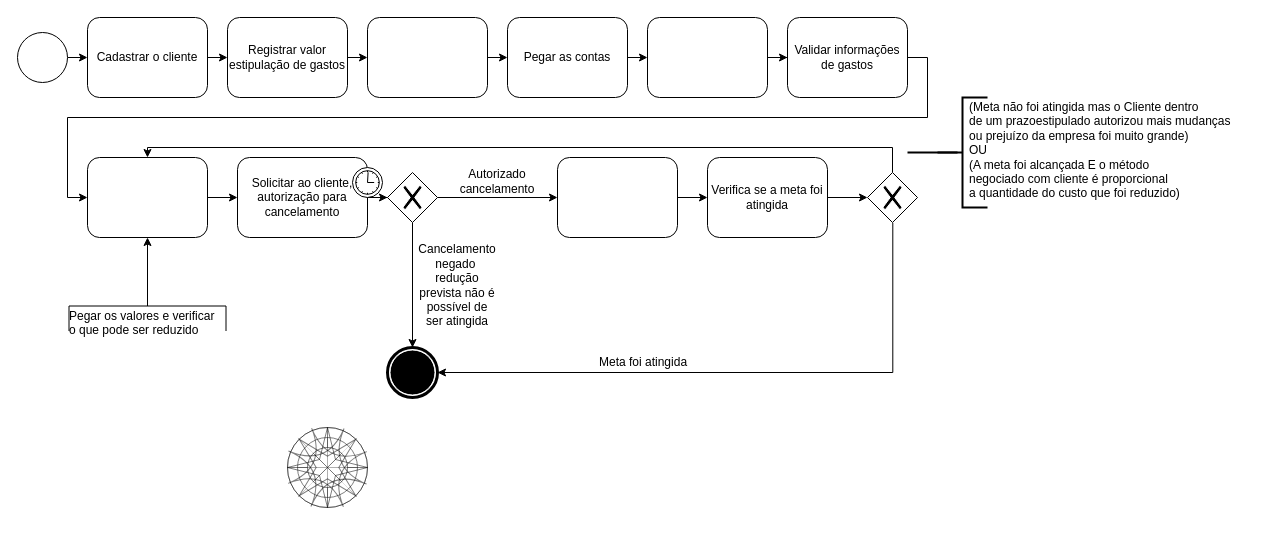
This 1275x542 diagram has some shape labels left out. Each missing label, with the box of its shape:
Analisar as contas: (86, 156, 208, 238)
Realiza o cancelamento das linhas autorizadas: (556, 156, 678, 238)
Registrar a meta: (366, 16, 488, 98)
Totalizar os gastos do cliente: (646, 16, 768, 98)
